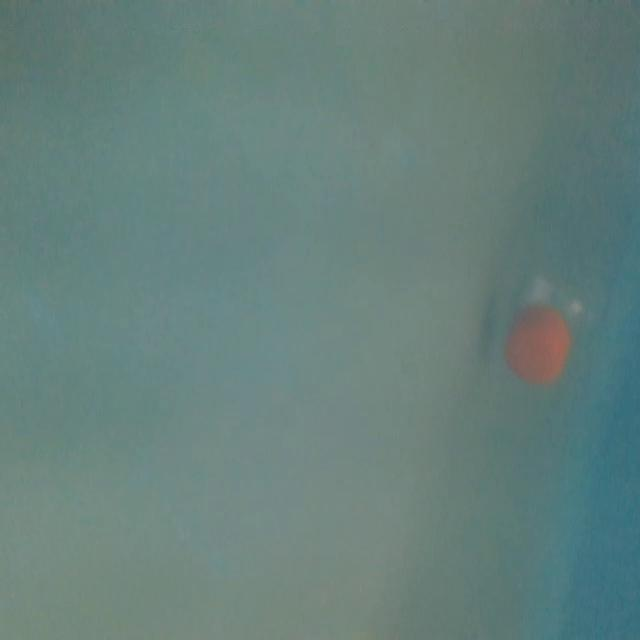plastic bottle: (502, 161, 636, 387)
